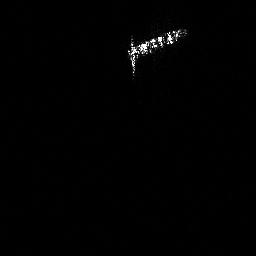ship: (128, 30, 182, 57)
